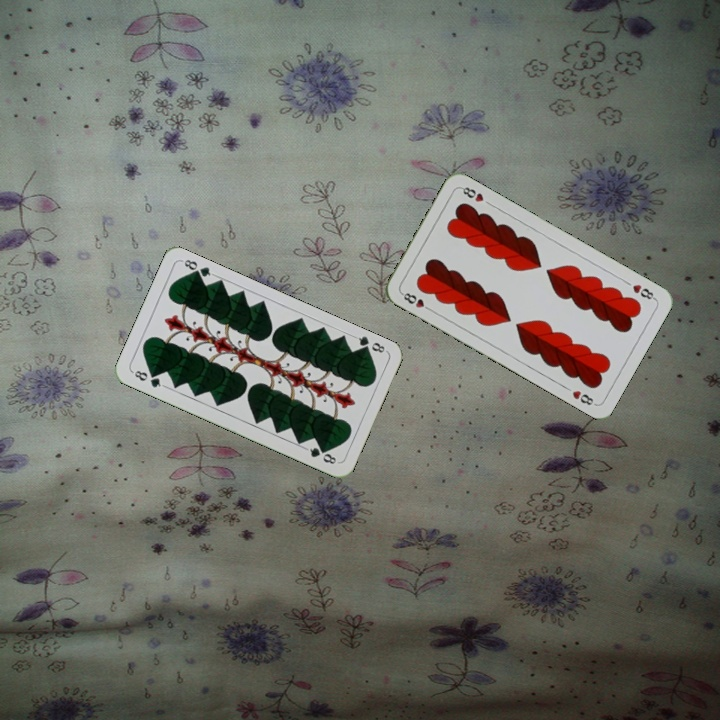G8: (128, 366, 167, 390), (350, 332, 387, 356)
H8: (397, 288, 435, 314), (628, 280, 658, 302)
